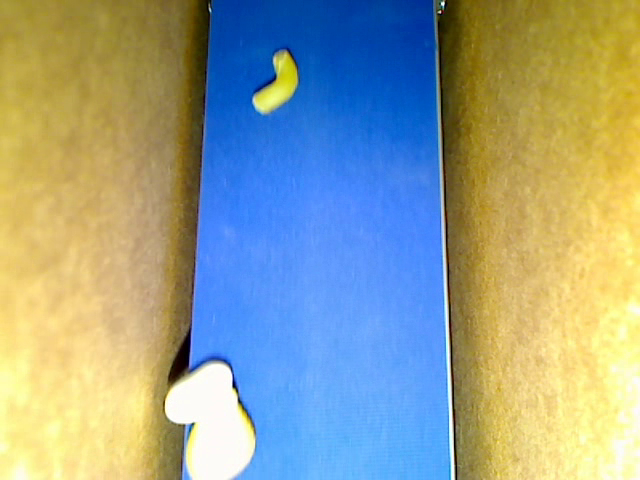elbow: (252, 49, 299, 113)
